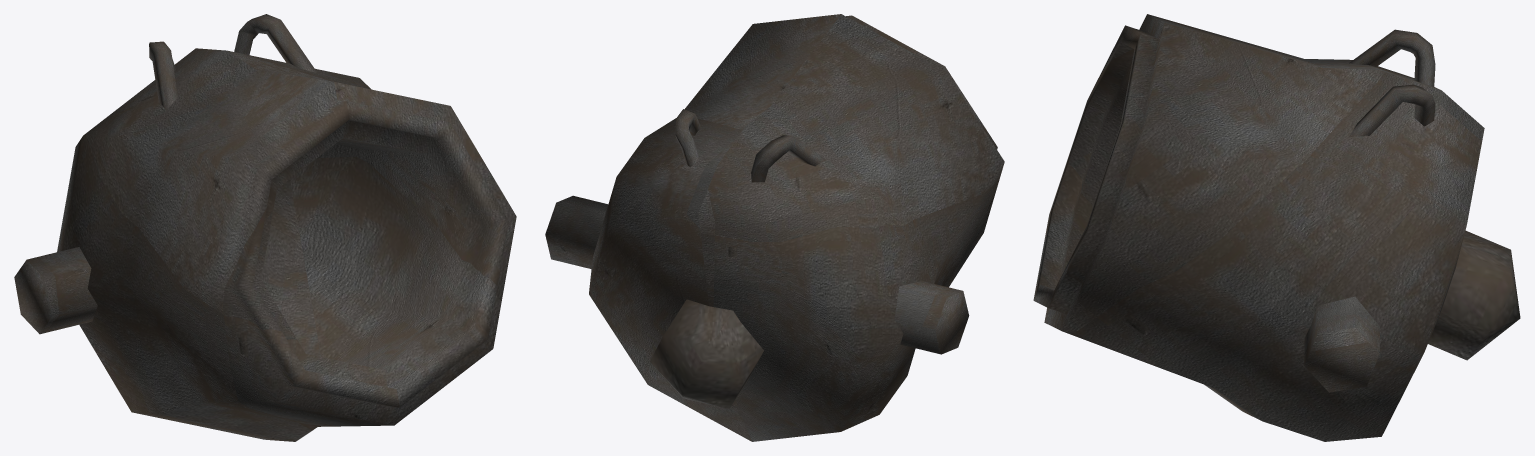
File: cannonAnim.glb
3 renders of one model, left to right at view 1: azimuth 30°, elevation 25°; view 2: azimuth 150°, elevation 25°; view 3: azimuth 270°, elevation 25°, orthographic. The views are drawn at different scales.
Visible parts, largest first — view 1: metal_rusted.jpg__; view 2: metal_rusted.jpg__; view 3: metal_rusted.jpg__.
Boxes of the visible parts, box(x1,y1,x2,y2) form: metal_rusted.jpg__: box(14, 14, 516, 441); metal_rusted.jpg__: box(545, 14, 1004, 441); metal_rusted.jpg__: box(1033, 14, 1520, 441).
Bounding box in the file's own units: 16.81 × 15.08 × 16.26.
1 material, 1 textured.
